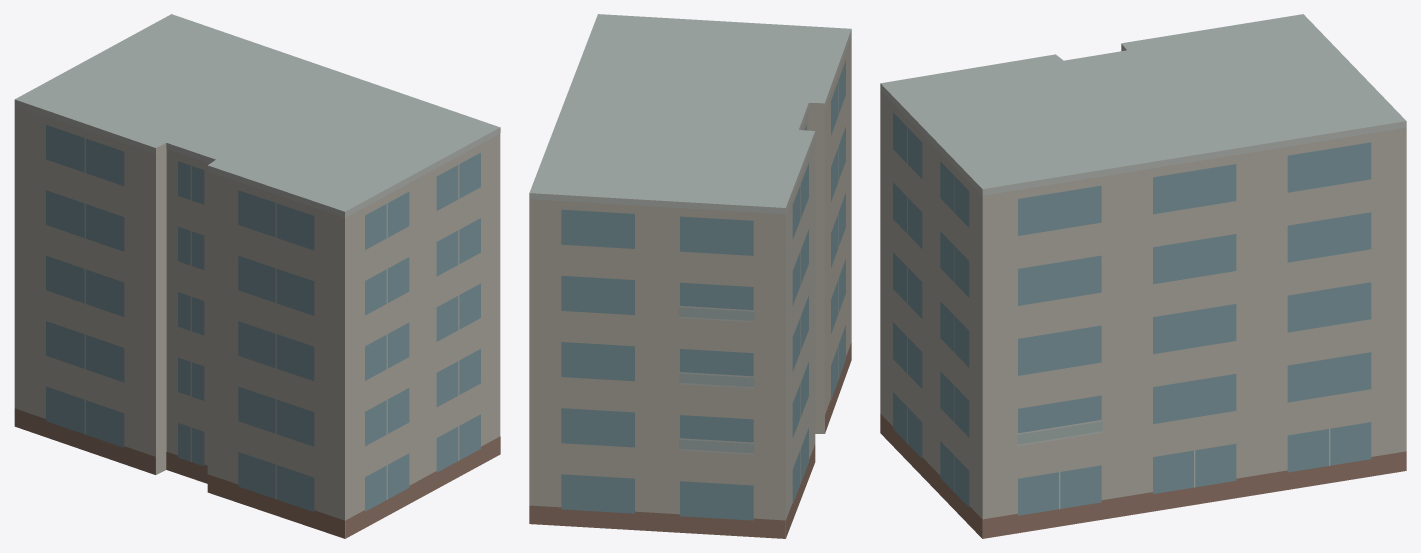
Rendered from survey-upis-32759304.glb.
3 renders of one model, left to right at view 1: azimuth 30°, elevation 25°; view 2: azimuth 150°, elevation 25°; view 3: azimuth 270°, elevation 25°, orthographic. The views are drawn at different scales.
Visible parts, largest first — view 1: survey-upis-32759304.tmp; view 2: survey-upis-32759304.tmp; view 3: survey-upis-32759304.tmp.
Part boxes in pixels (x1,y1,x2,y2): survey-upis-32759304.tmp: (14, 14, 500, 538); survey-upis-32759304.tmp: (529, 14, 851, 538); survey-upis-32759304.tmp: (880, 14, 1406, 538).
Size of the model in its own units: 14.08 by 13.1 by 17.88.
